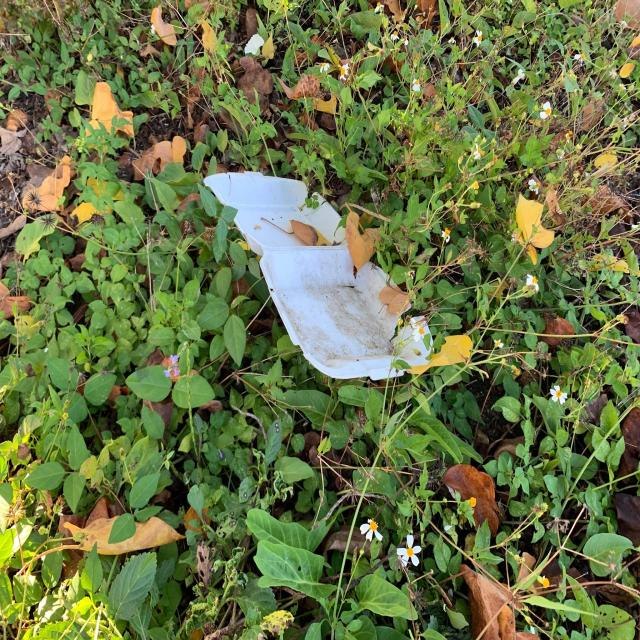litter: (201, 169, 430, 382)
